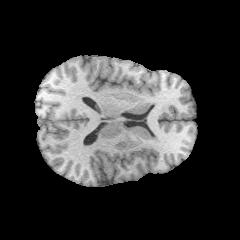glioma: (101, 126, 157, 150)
